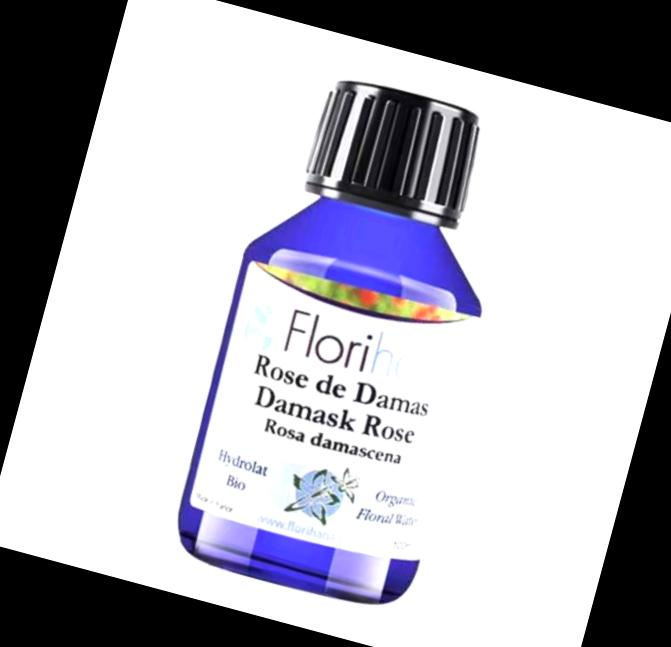cosmetic: (160, 58, 538, 615)
